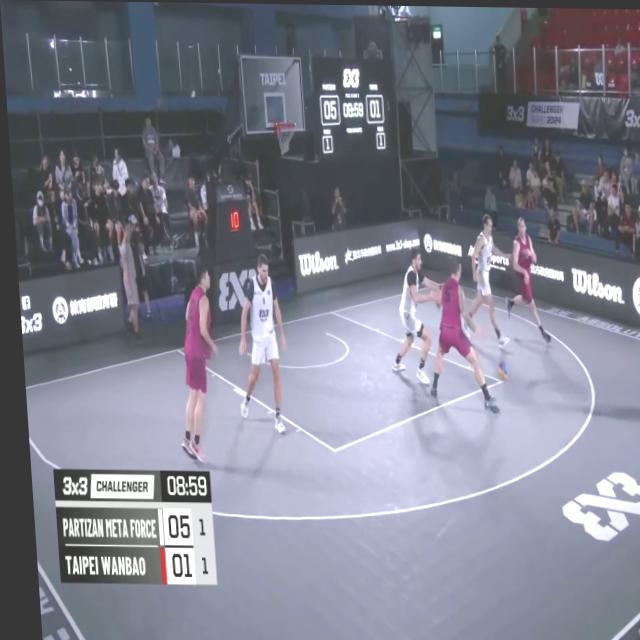ball: (489, 357, 506, 382)
hoop: (272, 118, 295, 156)
player: (418, 250, 498, 417), (164, 262, 217, 468), (227, 253, 287, 434), (383, 246, 442, 385), (452, 210, 507, 342), (496, 217, 547, 343)
